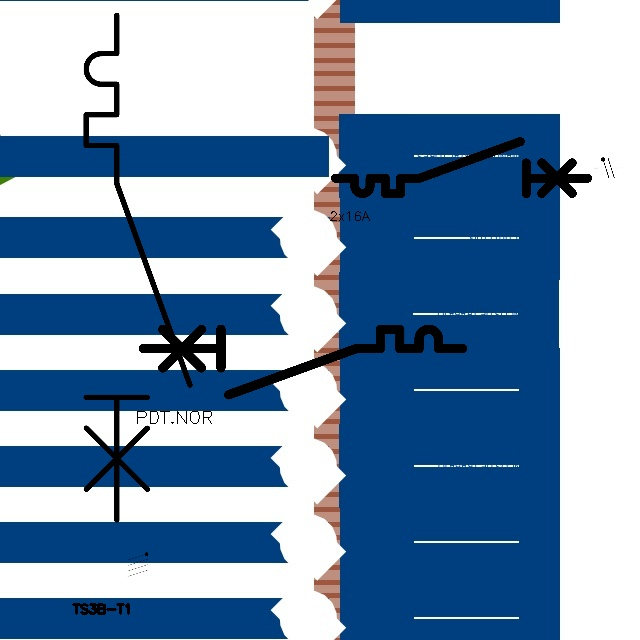interruptor_termomagnetico: (73, 2, 203, 532), (135, 321, 471, 403), (329, 135, 594, 200)
